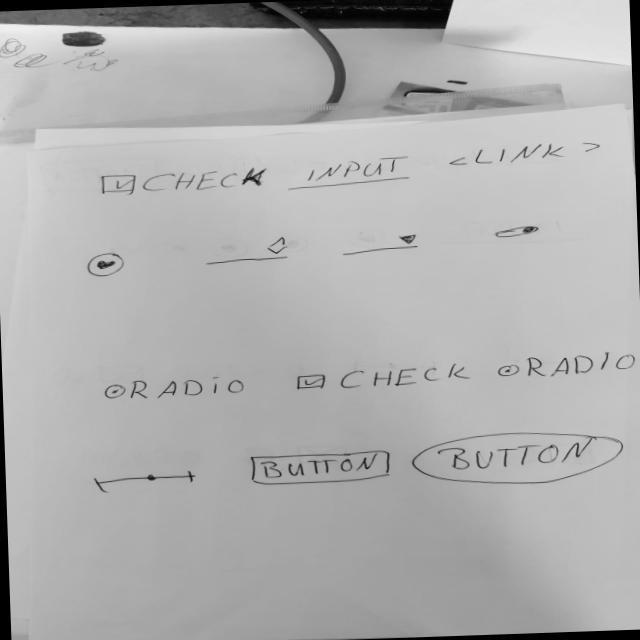button: (410, 429, 628, 491), (248, 450, 395, 488)
checkbox: (100, 165, 275, 198), (293, 362, 474, 393)
icon-button: (84, 253, 127, 279)
input: (285, 155, 416, 193)
link: (445, 140, 605, 171)
number-input: (199, 235, 294, 268)
radio: (102, 382, 128, 402)
select: (340, 233, 424, 259)
slider: (88, 469, 201, 495)
toggle: (490, 224, 541, 241)
